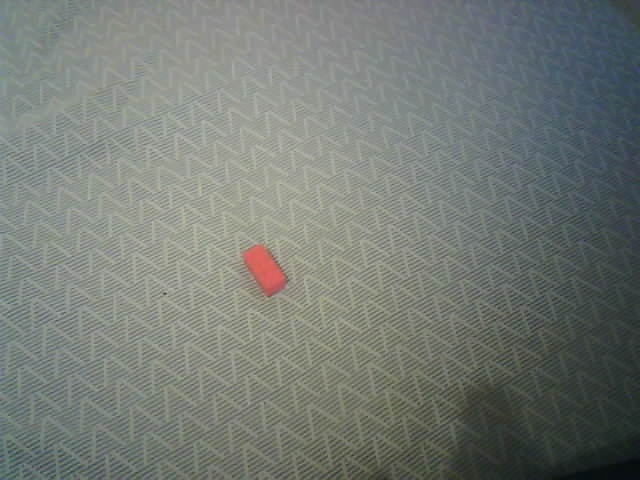lego: (242, 244, 287, 297)
